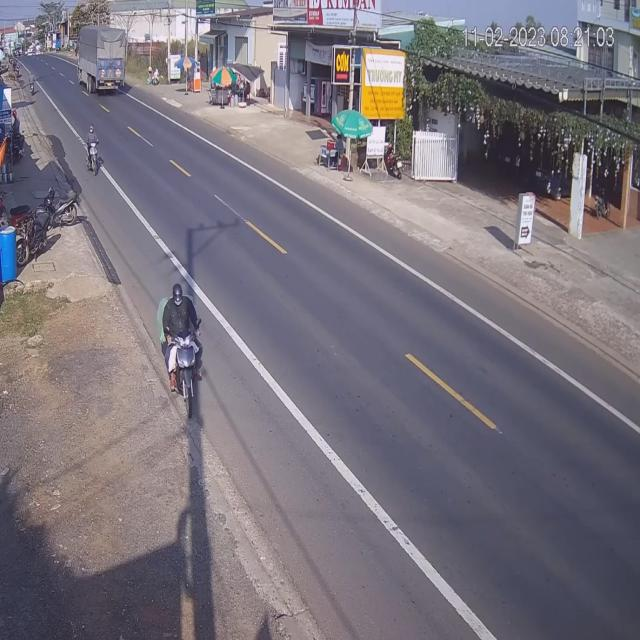motorbike: (161, 285, 204, 413), (87, 129, 103, 176)
truck: (76, 22, 124, 96)
